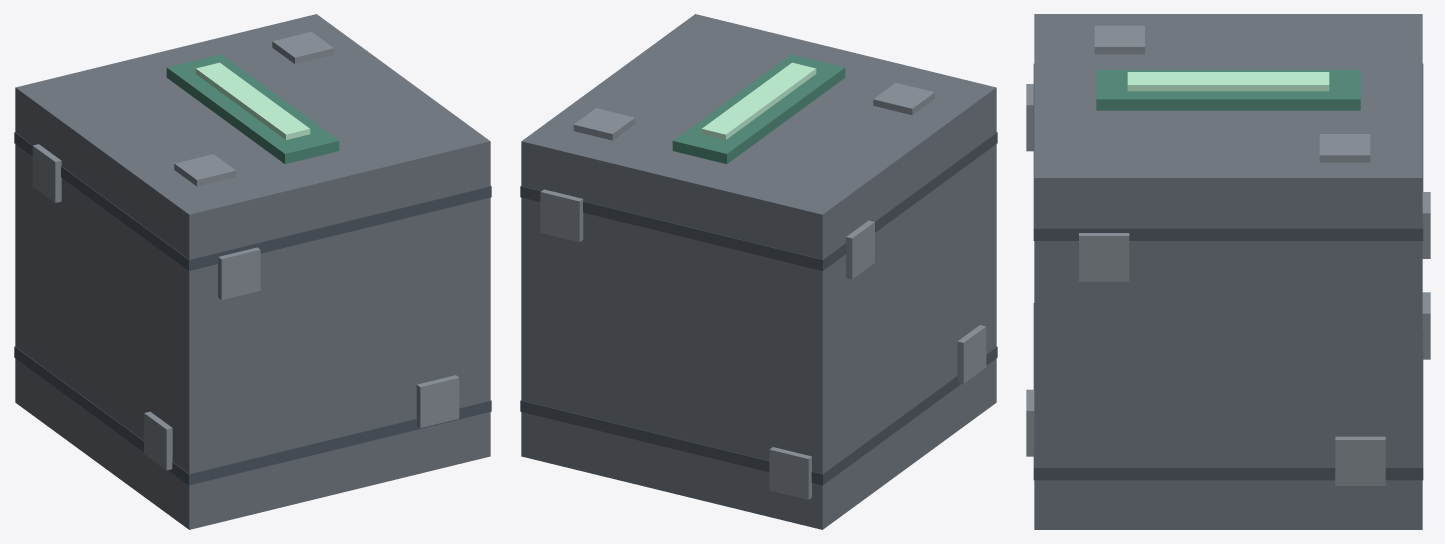
Rendered from rod_ore_block.glb.
3 views of the same model, side by side, from view 1: azimuth 30°, elevation 25°; view 2: azimuth 150°, elevation 25°; view 3: azimuth 270°, elevation 25° (orthographic). The views are drawn at different scales.
Visible parts, largest first — view 1: dark_stone_core, rod_channel, dark_seam_1, dark_seam, rod_highlight, stone_chip_1, stone_chip, stone_chip_6, stone_chip_7, stone_chip_8, stone_chip_9; view 2: dark_stone_core, rod_channel, dark_seam, dark_seam_1, rod_highlight, stone_chip_3, stone_chip_2, stone_chip_7, stone_chip_6, stone_chip_9, stone_chip_8; view 3: dark_stone_core, rod_channel, dark_seam_1, dark_seam, rod_highlight, stone_chip_5, stone_chip_4, stone_chip_8, stone_chip_9, stone_chip_1, stone_chip_2, stone_chip_3 (+1 smaller).
Part boxes in pixels (box(x1,y1,x2,y2)): dark_stone_core: box(15, 14, 490, 529); rod_channel: box(166, 54, 339, 164); dark_seam_1: box(14, 132, 491, 270); dark_seam: box(14, 346, 491, 485); rod_highlight: box(195, 62, 310, 139); stone_chip_1: box(416, 375, 459, 427); stone_chip: box(218, 247, 260, 300); stone_chip_6: box(32, 144, 61, 202); stone_chip_7: box(144, 411, 172, 470); stone_chip_8: box(174, 154, 236, 186); stone_chip_9: box(272, 31, 333, 63); dark_stone_core: box(521, 14, 996, 529); rod_channel: box(672, 54, 845, 164); dark_seam: box(520, 346, 997, 485); dark_seam_1: box(520, 132, 997, 270); rod_highlight: box(701, 62, 816, 139); stone_chip_3: box(540, 189, 583, 242); stone_chip_2: box(769, 447, 811, 499); stone_chip_7: box(957, 325, 986, 383); stone_chip_6: box(846, 220, 874, 279); stone_chip_9: box(573, 108, 635, 140); stone_chip_8: box(873, 83, 934, 115); dark_stone_core: box(1034, 14, 1422, 529); rod_channel: box(1096, 70, 1360, 110); dark_seam_1: box(1033, 64, 1423, 240); dark_seam: box(1033, 303, 1423, 480); rod_highlight: box(1127, 72, 1329, 91); stone_chip_5: box(1335, 436, 1385, 485); stone_chip_4: box(1079, 233, 1129, 281); stone_chip_8: box(1094, 25, 1144, 54); stone_chip_9: box(1319, 134, 1370, 162); stone_chip_1: box(1026, 389, 1034, 456); stone_chip_2: box(1422, 292, 1430, 359); stone_chip_3: box(1422, 192, 1430, 258).
Bounding box in the file's own units: 1.04 × 1.07 × 1.04.
